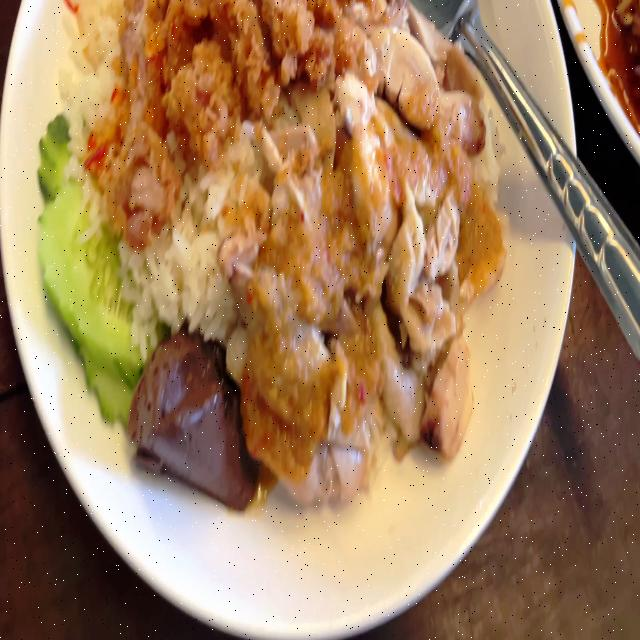boiled_chicken: (238, 38, 486, 454)
boiled_chicken_blood_jelly: (130, 326, 256, 504)
chicken_rice: (37, 0, 501, 508)
cucumber: (36, 110, 144, 424)
fried_chicken: (92, 0, 346, 240)
